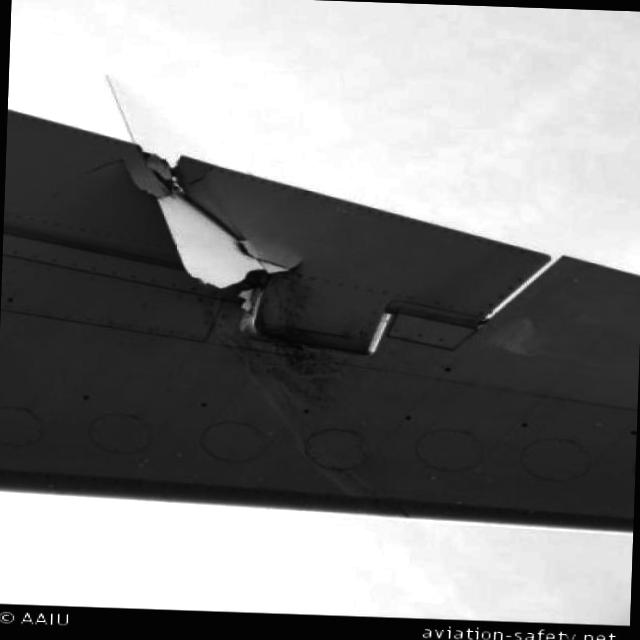crack: (81, 144, 316, 292)
